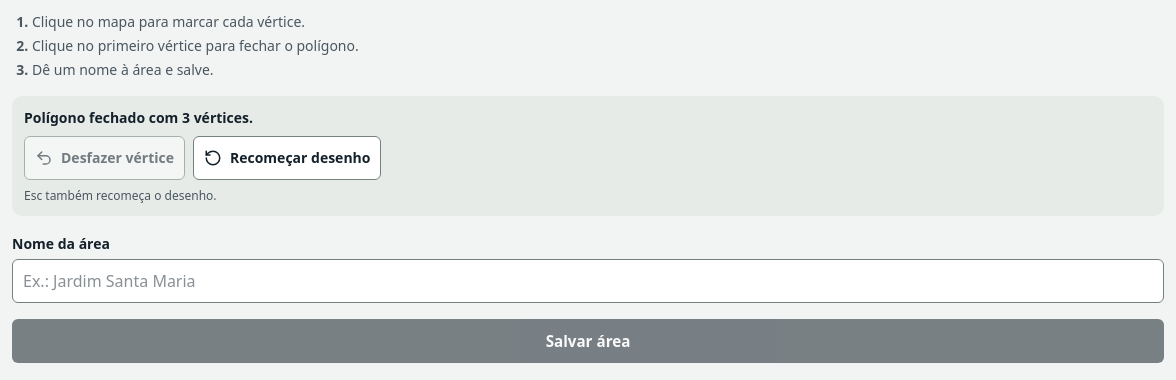
it: FormArea › só deixa salvar depois de fechar o polígono e dar um nome
Expected: the button "Salvar área" is disabled, [12,319,1164,363]
Expected: the text "Polígono fechado com 3 vértices." is shown, [24,108,253,127]
Type "Vila nova" into the field labelled "Nome da área" at (588, 281), box [12,259,1164,303]
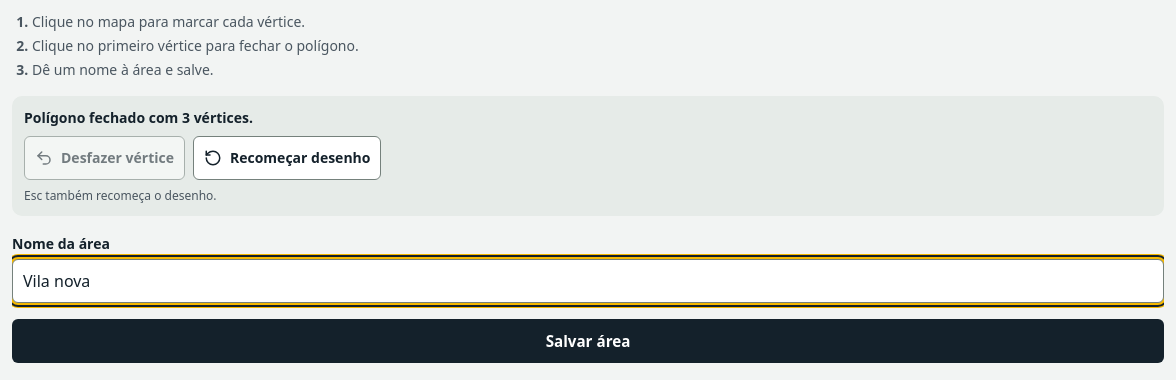
Expected: the button "Salvar área" is enabled, [12,319,1164,363]
